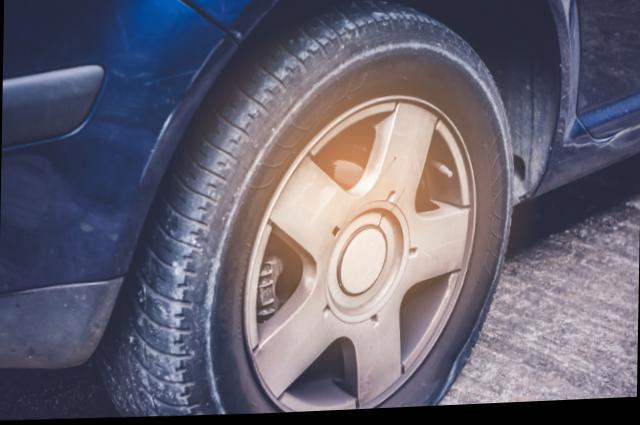tire flat: (102, 0, 512, 417)
